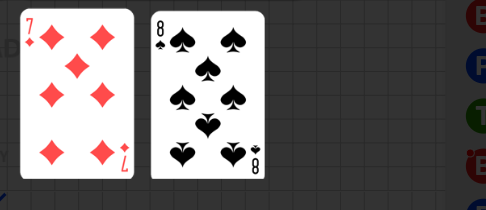10S: (248, 142, 261, 176)
7D: (118, 142, 131, 174)
